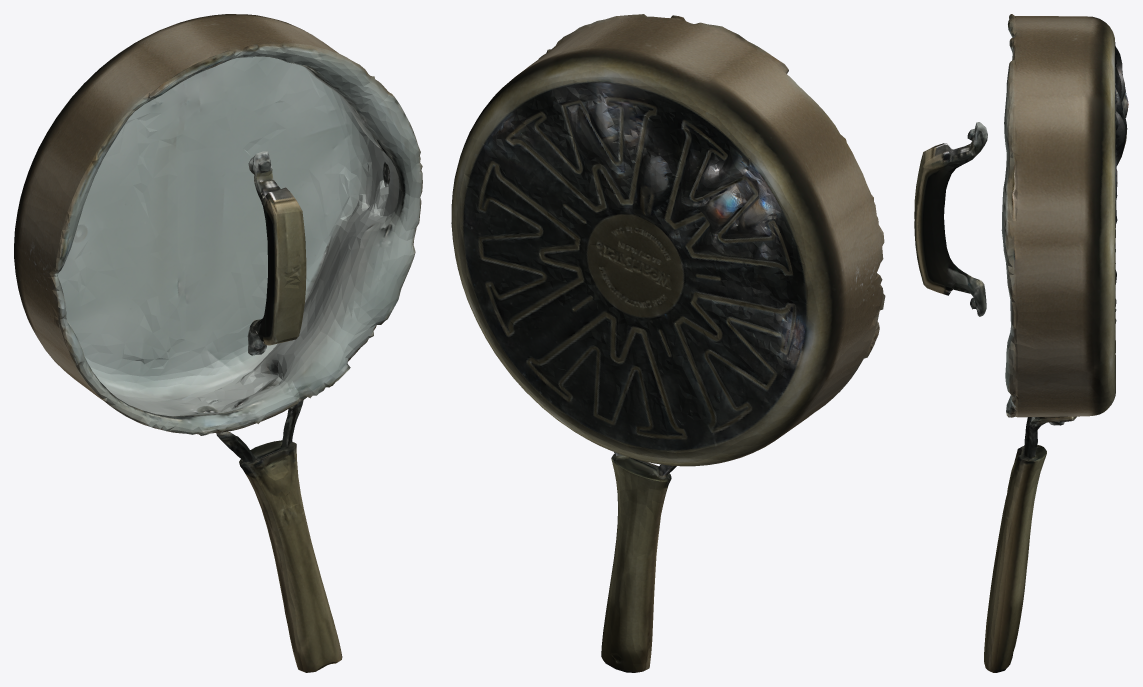
3 renders of one model, left to right at view 1: azimuth 30°, elevation 25°; view 2: azimuth 150°, elevation 25°; view 3: azimuth 270°, elevation 25°, orthographic. The views are drawn at different scales.
Visible parts, largest first — view 1: node; view 2: node; view 3: node.
Part boxes in pixels (box(x1,y1,x2,y2)): node: box(14, 14, 422, 672); node: box(451, 14, 885, 672); node: box(914, 14, 1128, 672).
Size of the model in its own units: 0.2666 by 0.4408 by 0.142.
Materials: 1 (1 with a texture image).
